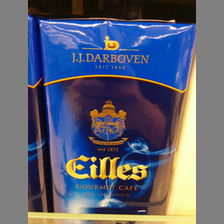coffee: (39, 18, 195, 215)
